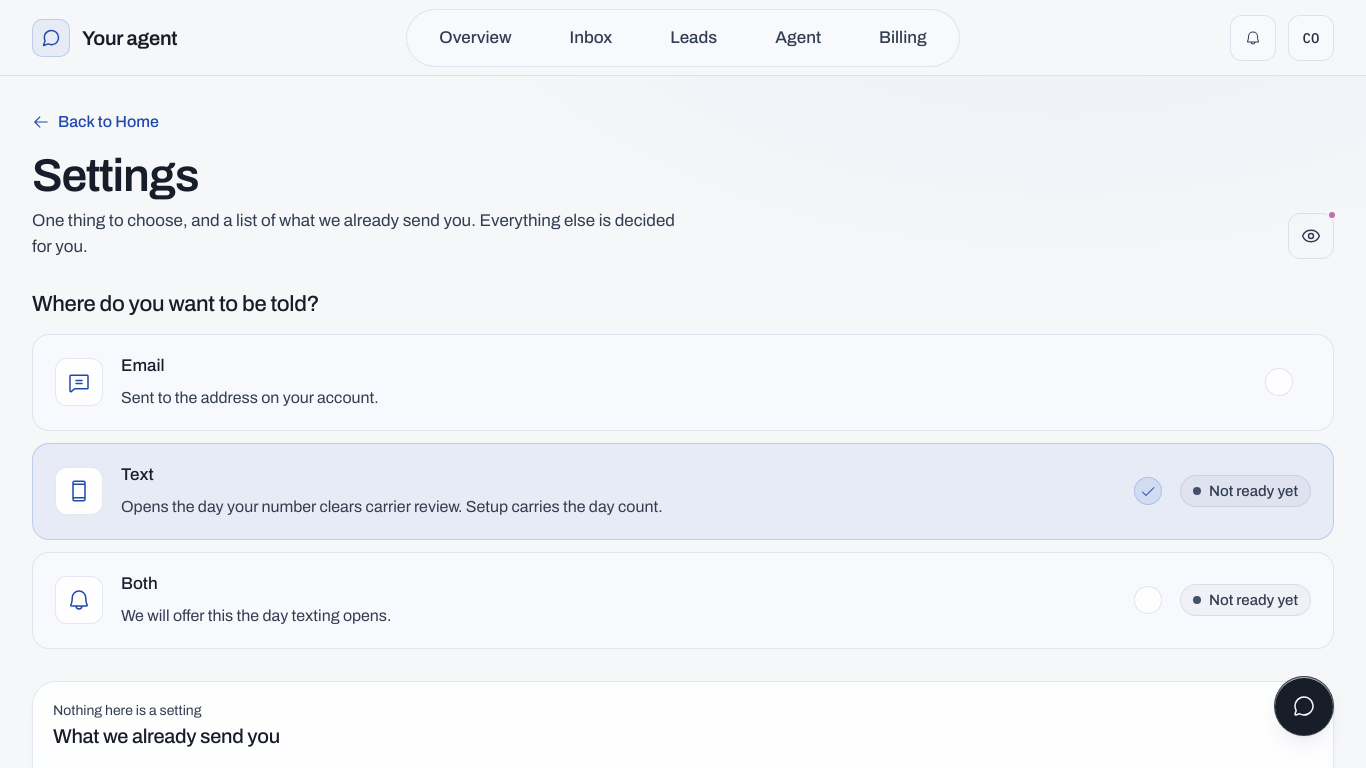
Test case: CoachSettingsNotifications › says nothing changed when the write is refused
Expected: the radio button labelled "Text" is checked, [32, 443, 1334, 540]
Click the radio button labelled "Email Sent to the address on your account." at (79, 382), box [32, 334, 1334, 431]
(page scrolled)
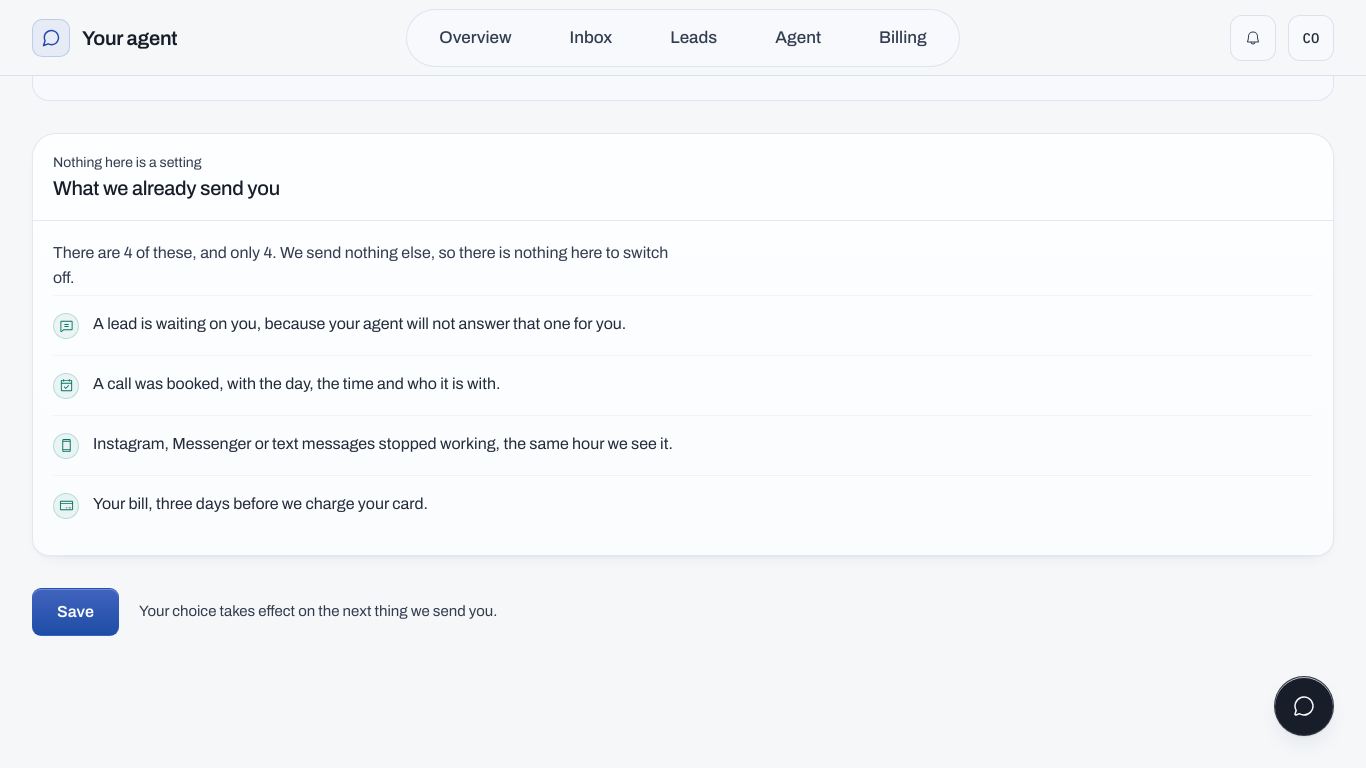
Click the button "Save" at (76, 612), box [32, 588, 119, 636]
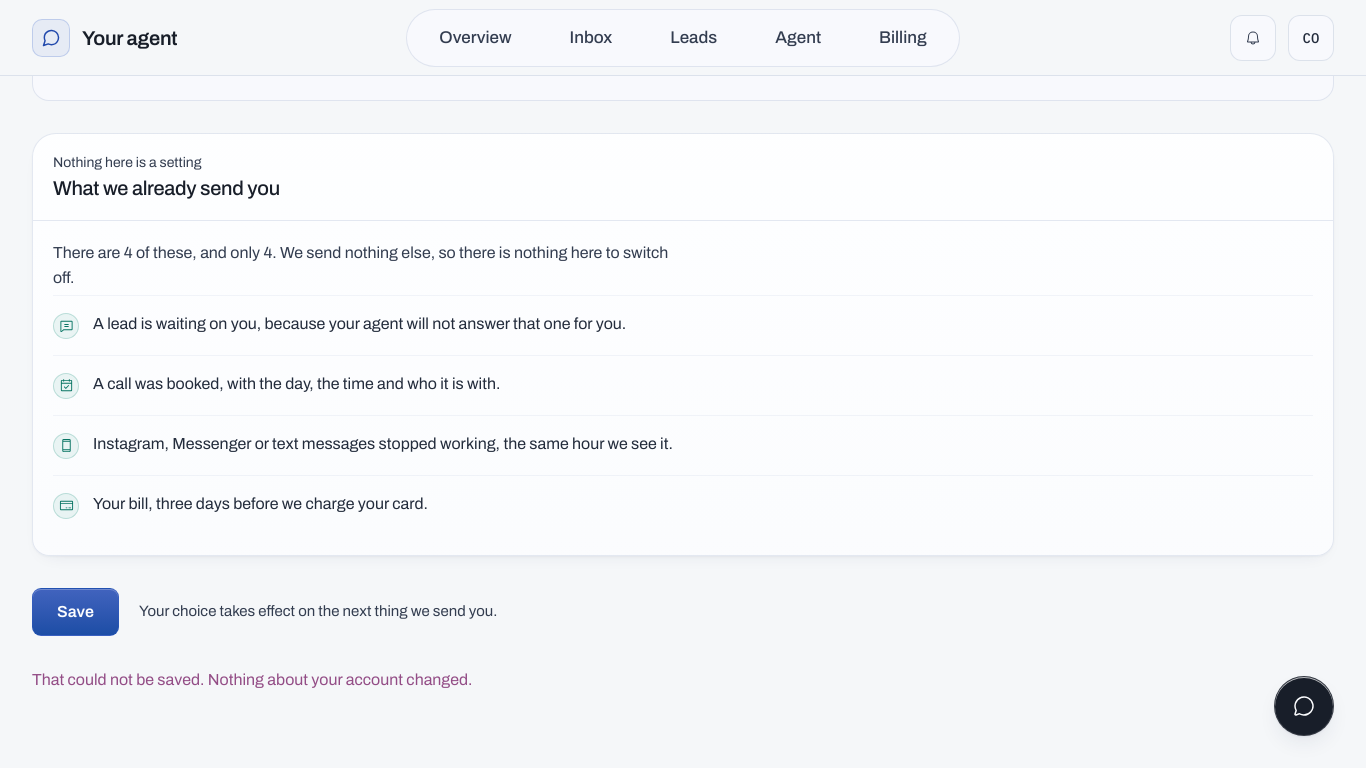
Expected: the text "That could not be saved. Nothing about your account changed." is shown, [32, 671, 472, 688]
